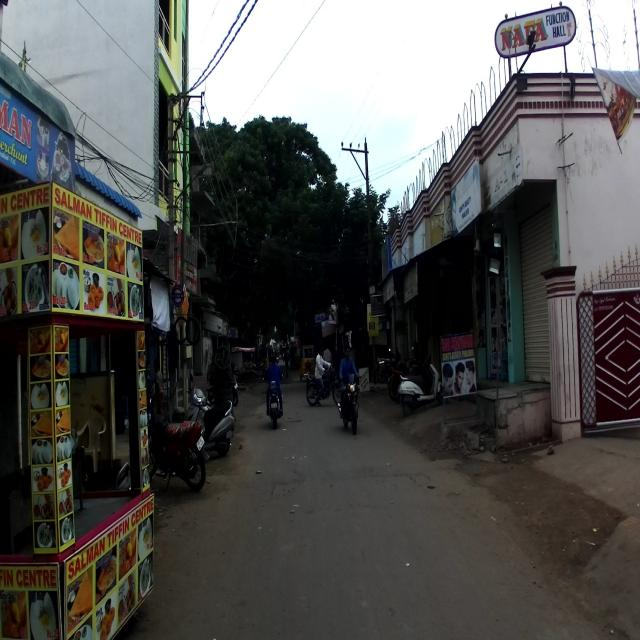motorcycle: (145, 399, 211, 495), (336, 371, 362, 435), (303, 361, 339, 406), (262, 369, 284, 429)
scooter: (179, 373, 237, 459), (70, 420, 133, 495), (396, 350, 447, 417)
